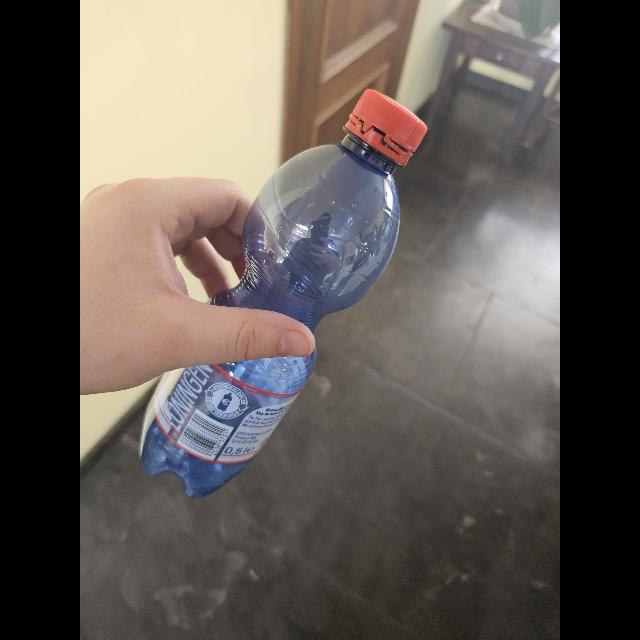Plastic: (140, 88, 430, 498)
